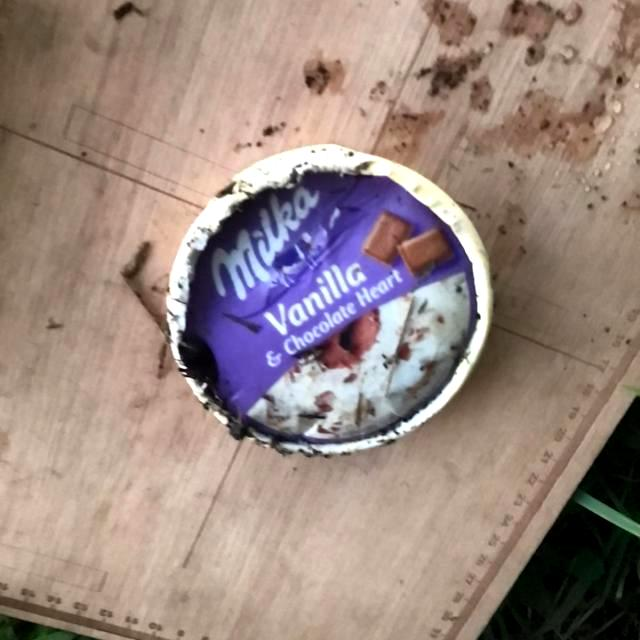Paper: (162, 140, 494, 460)
